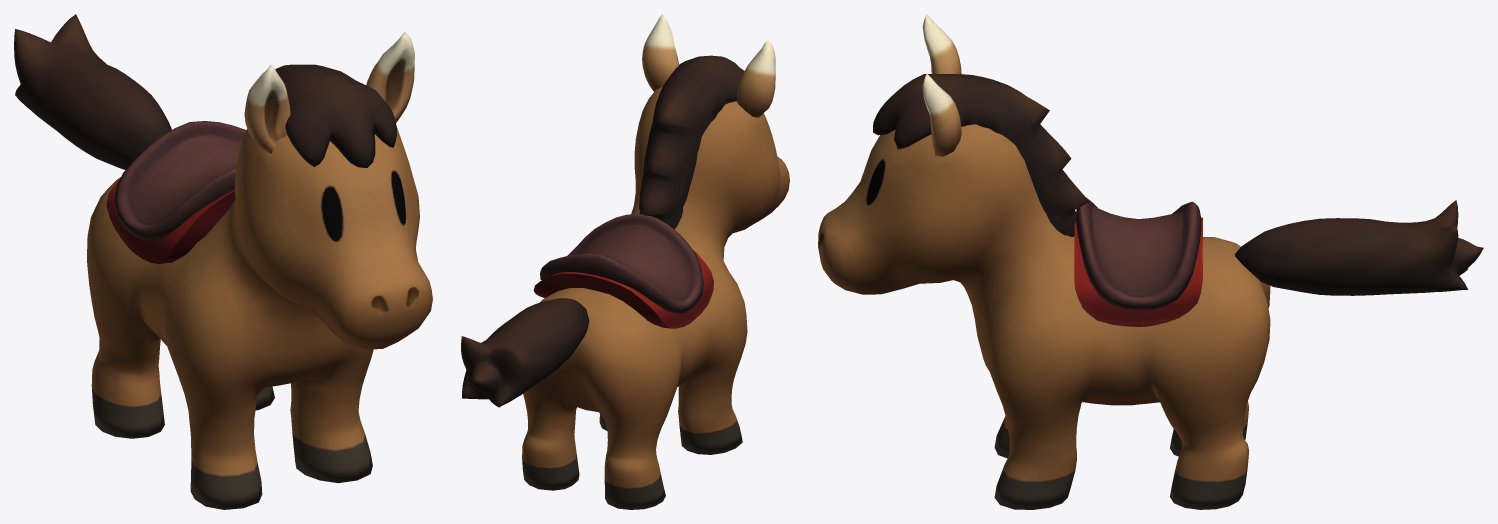
Rendered from Horse.obj.
3 renders of one model, left to right at view 1: azimuth 30°, elevation 25°; view 2: azimuth 150°, elevation 25°; view 3: azimuth 270°, elevation 25°, orthographic. The views are drawn at different scales.
Parts seen in each view (by area): view 1: body_low__MI_body, clothes_low__MI_body; view 2: body_low__MI_body, clothes_low__MI_body; view 3: body_low__MI_body, clothes_low__MI_body.
Boxes of the visible parts, box(x1,y1,x2,y2) form: body_low__MI_body: box(14, 14, 432, 509); clothes_low__MI_body: box(106, 32, 414, 264); body_low__MI_body: box(461, 55, 789, 509); clothes_low__MI_body: box(533, 14, 775, 328); body_low__MI_body: box(818, 74, 1483, 509); clothes_low__MI_body: box(922, 14, 1202, 326).
Bounding box in the file's own units: 0.7604 × 1.82 × 2.57.
